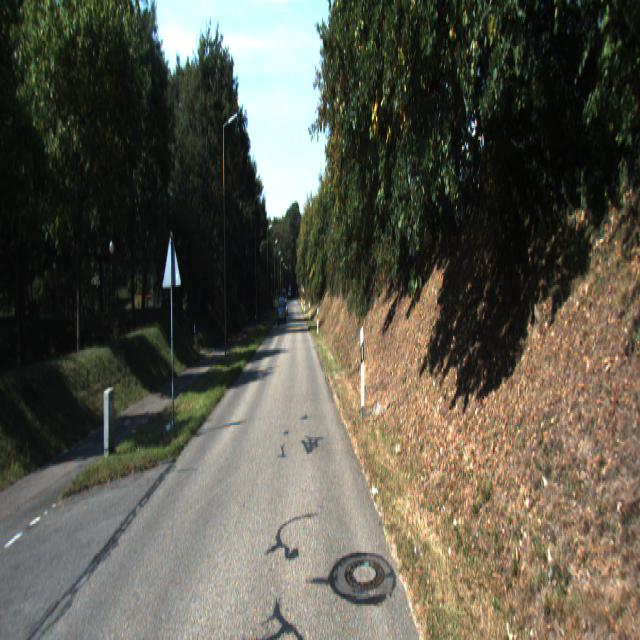Car: (278, 299, 286, 326)
